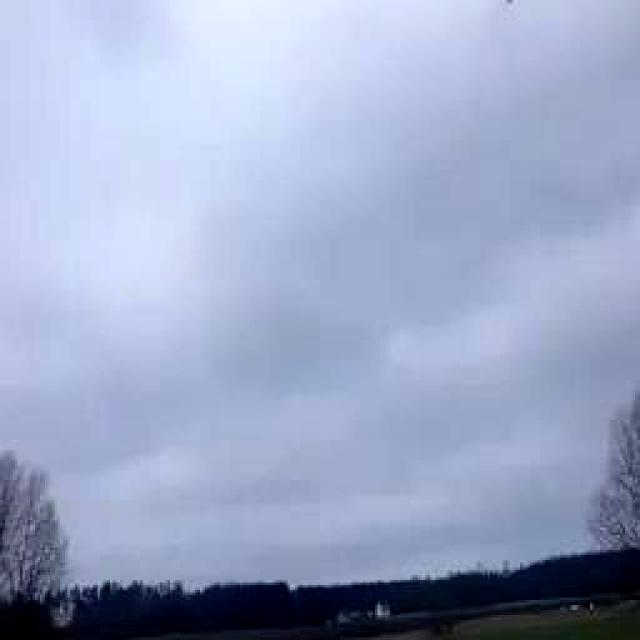bird: (486, 0, 544, 25)
